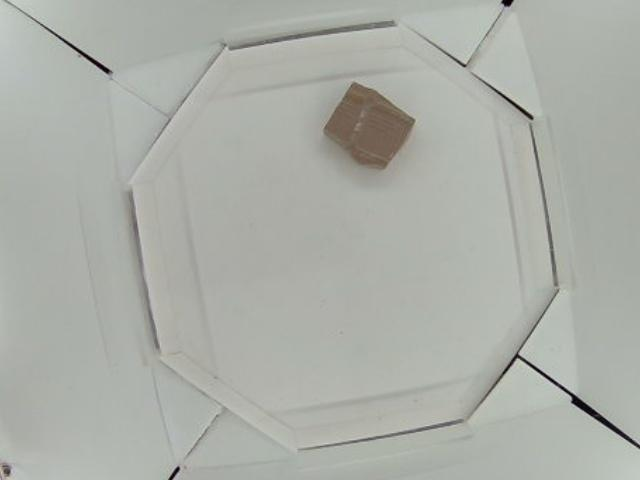China: (322, 83, 414, 167)
